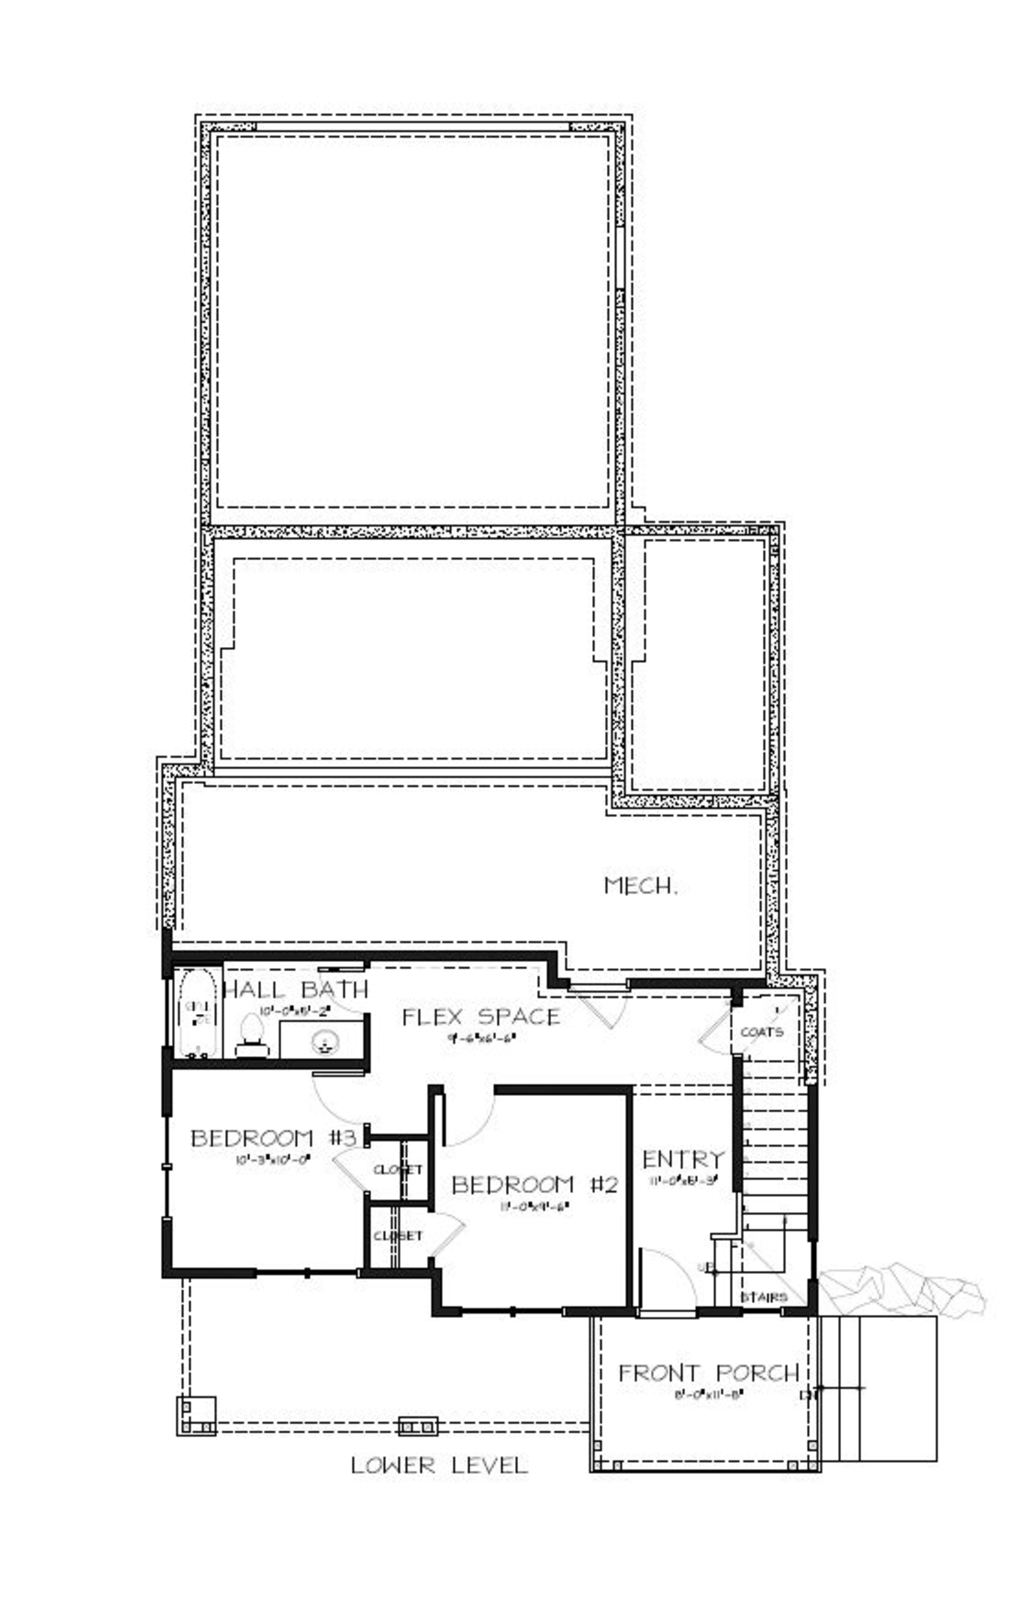door: (437, 1059, 510, 1162), (634, 1247, 709, 1345), (317, 1059, 390, 1140), (327, 1111, 383, 1215), (573, 974, 642, 1040), (410, 1198, 471, 1264)
large_sink: (234, 976, 281, 1065)
small_sink: (298, 1018, 377, 1081)
stairs: (705, 987, 815, 1303), (756, 1303, 928, 1489)
tub: (168, 947, 229, 1072)
